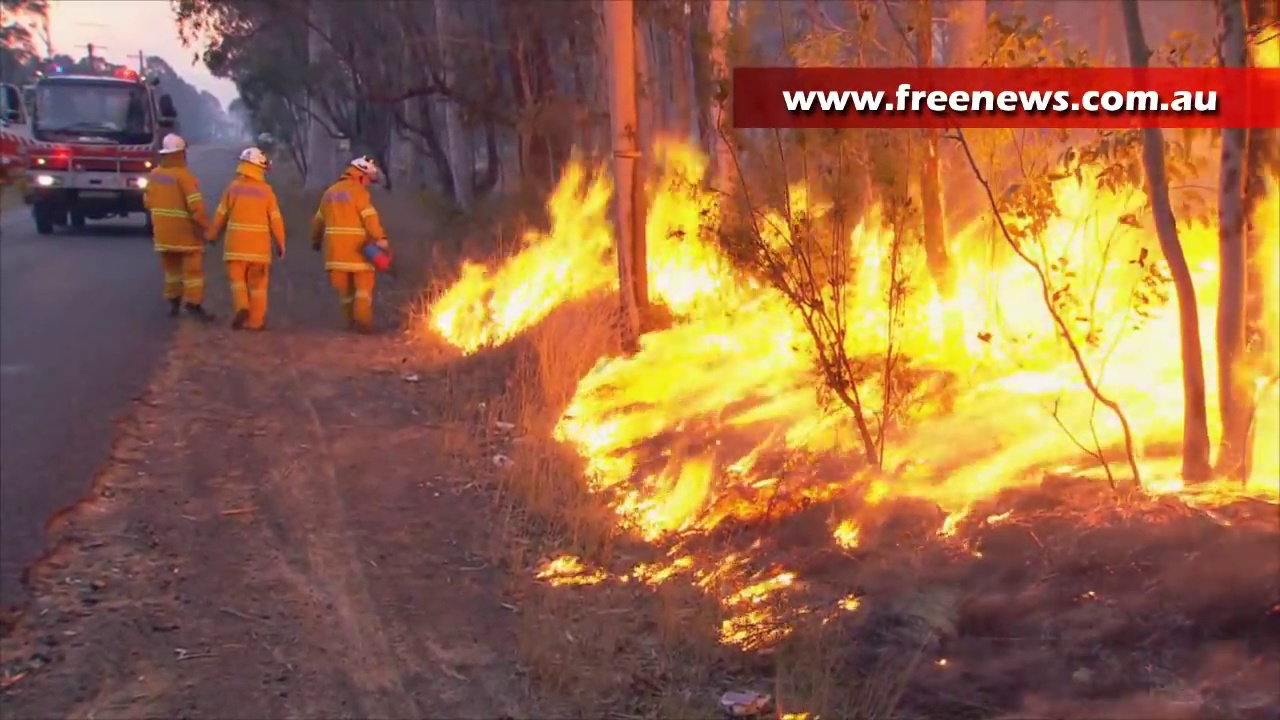fire: (566, 152, 1280, 547), (436, 176, 613, 348)
